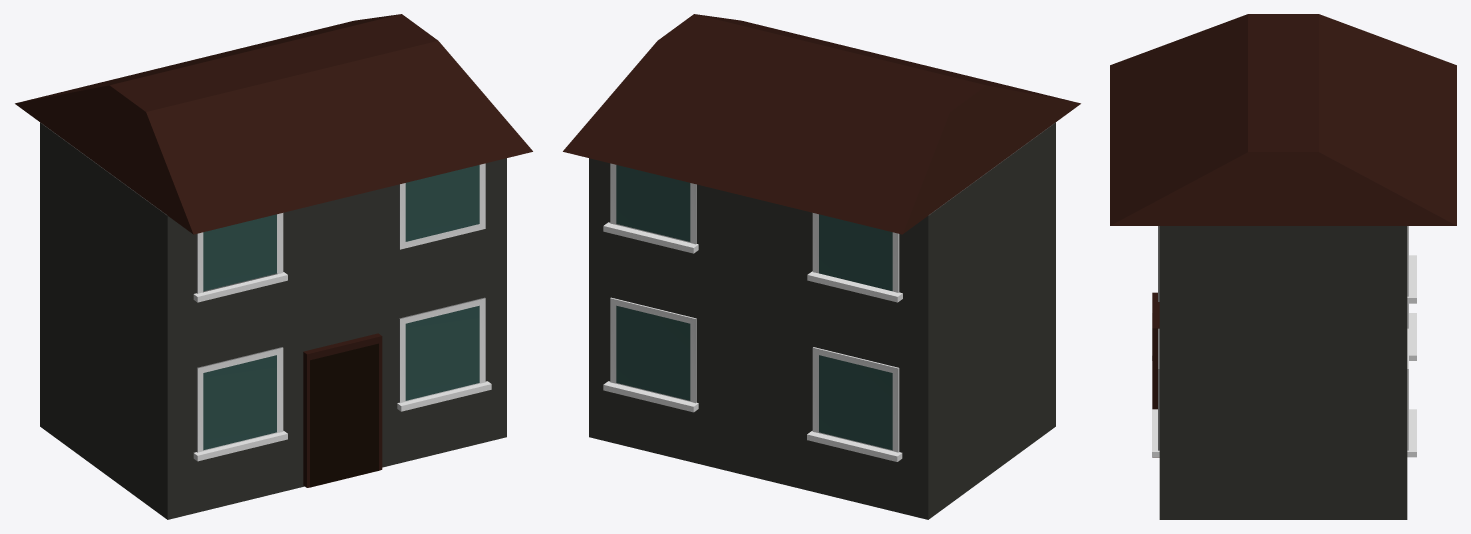
The model's file is Two_Story_Building.obj.
The picture shows the model from 3 angles, left to right: view 1: azimuth 30°, elevation 25°; view 2: azimuth 150°, elevation 25°; view 3: azimuth 270°, elevation 25°; orthographic projection. The views are drawn at different scales.
Parts seen in each view (by area): view 1: pCube75; view 2: pCube75; view 3: pCube75.
Part boxes in pixels (x1=…): pCube75: x1=15, y1=14, x2=532, y2=519; pCube75: x1=563, y1=14, x2=1080, y2=519; pCube75: x1=1110, y1=14, x2=1456, y2=519.
Bounding box in the file's own units: 6.72 × 6.96 × 6.13.
